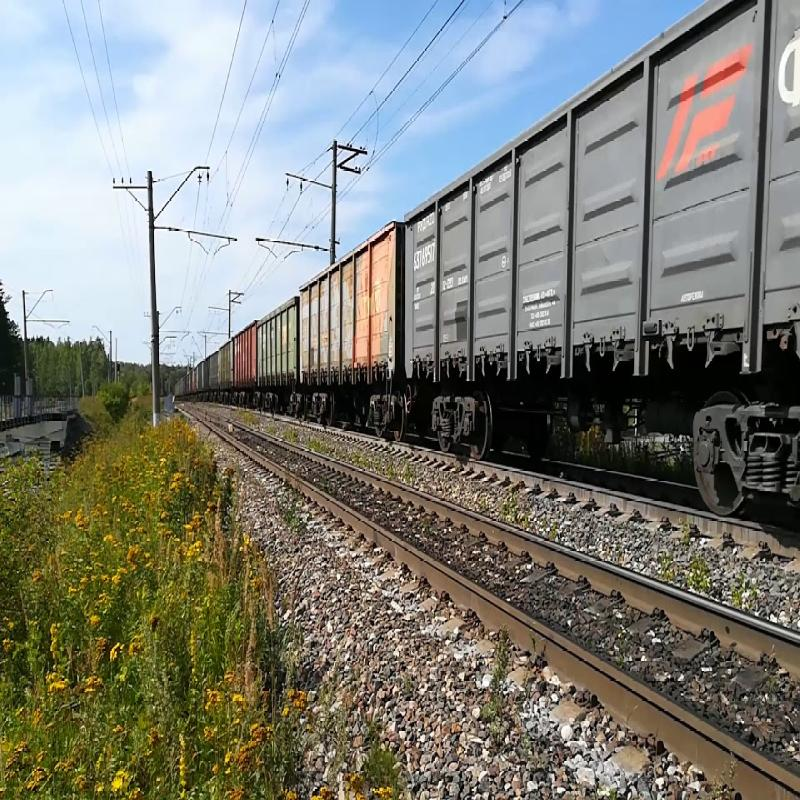train: (407, 106, 800, 537), (296, 223, 418, 449), (261, 297, 305, 412)
